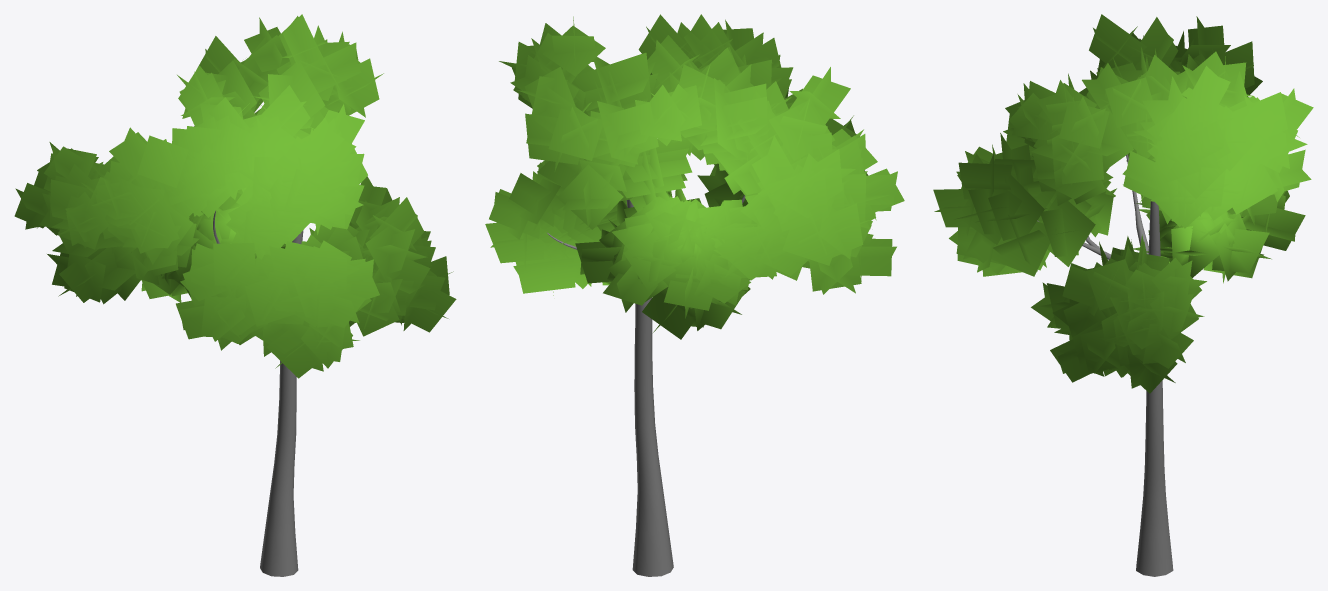
The model's file is SM_tree_01.fbx.
3 views of the same model, side by side, from view 1: azimuth 30°, elevation 25°; view 2: azimuth 150°, elevation 25°; view 3: azimuth 270°, elevation 25° (orthographic). The views are drawn at different scales.
Parts seen in each view (by area): view 1: Line001; view 2: Line001; view 3: Line001.
Boxes of the visible parts, x1,y1,x2,y2 form: Line001: (14, 14, 456, 576); Line001: (485, 14, 904, 576); Line001: (933, 14, 1313, 576).
Bounding box in the file's own units: 287 × 381 × 249.
